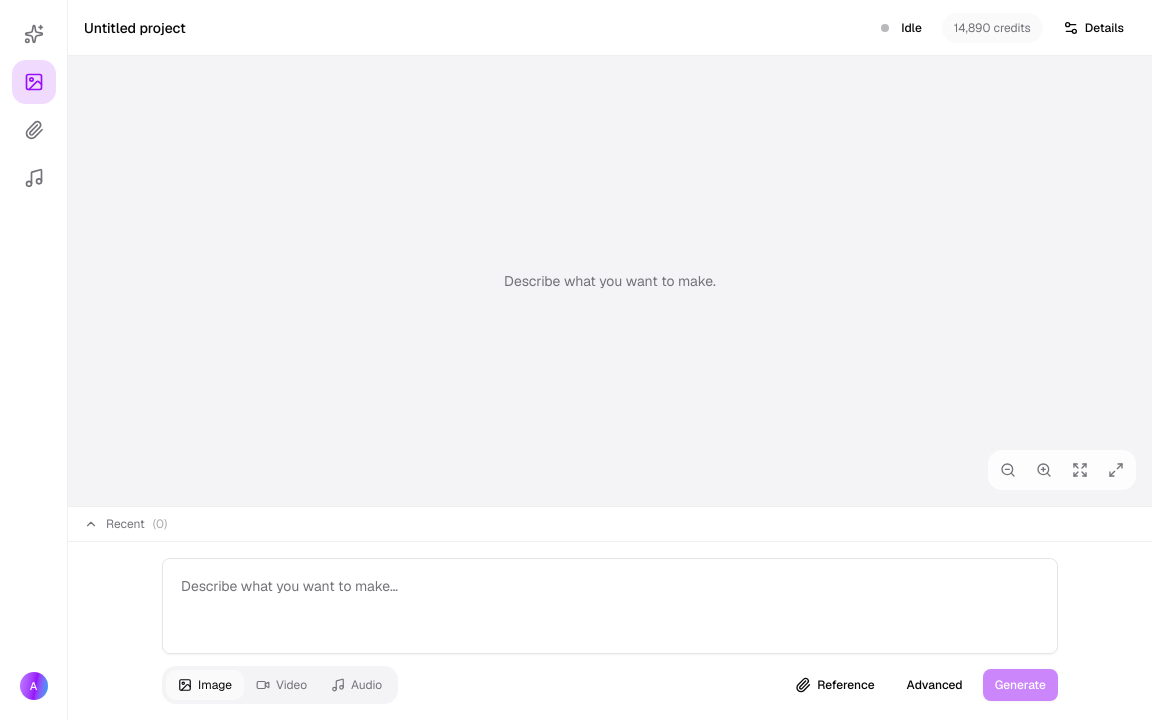
Test case: a model that chooses its own length says so › still prints the enum for a model that has one
The image size is (1164, 720).
Click the button "Video": coordinates (282, 685) [244,670,319,700]
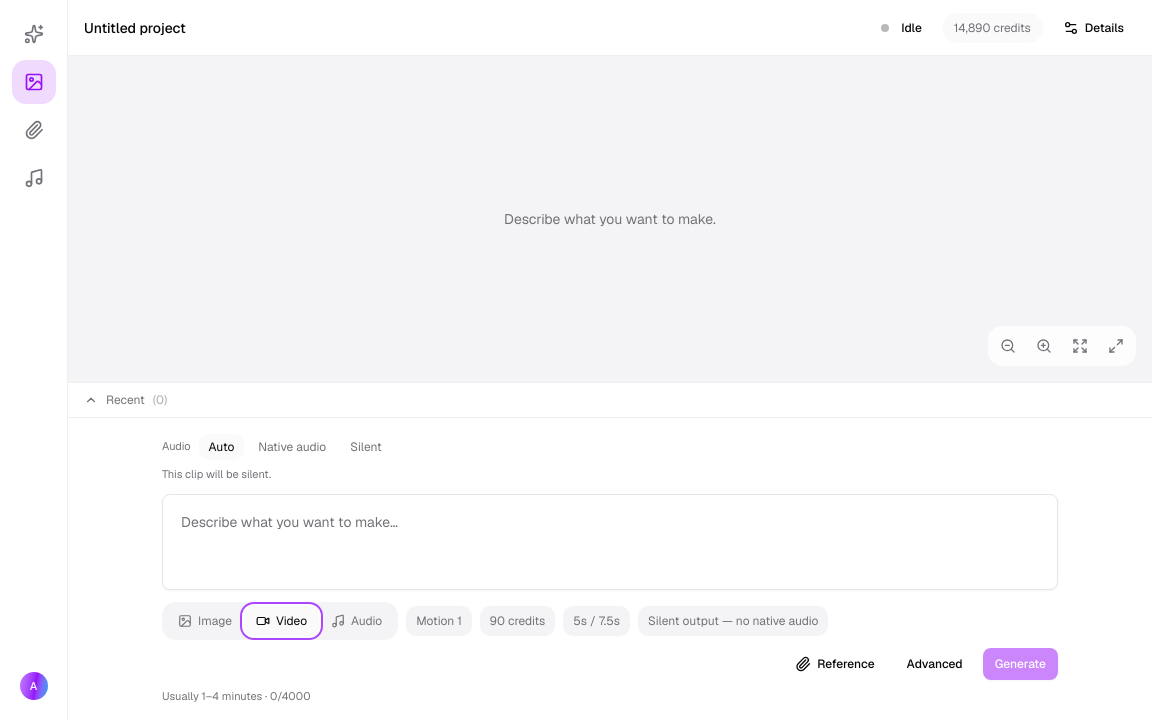
Expected: the text "5s / 7.5s" is shown, [563,606,630,636]
